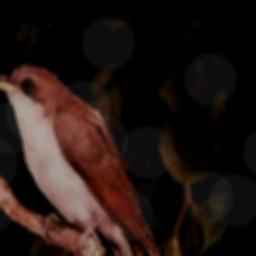Cuckoo: (0, 63, 173, 256)
